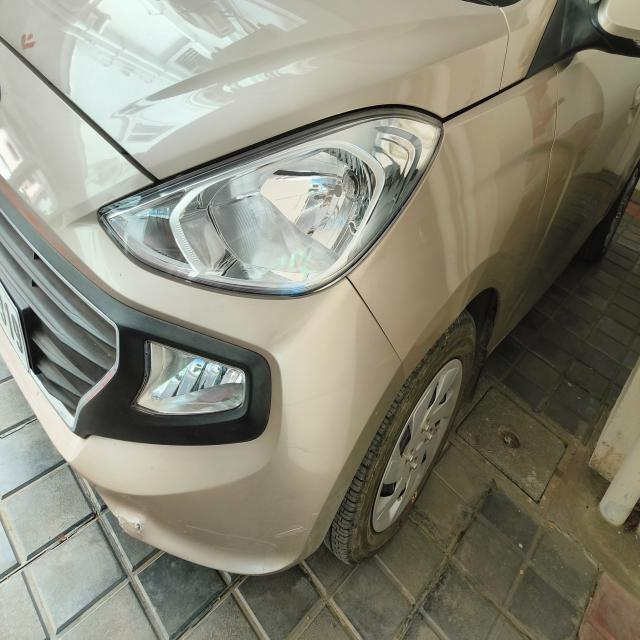scratch: (178, 513, 322, 556), (106, 497, 157, 538)
